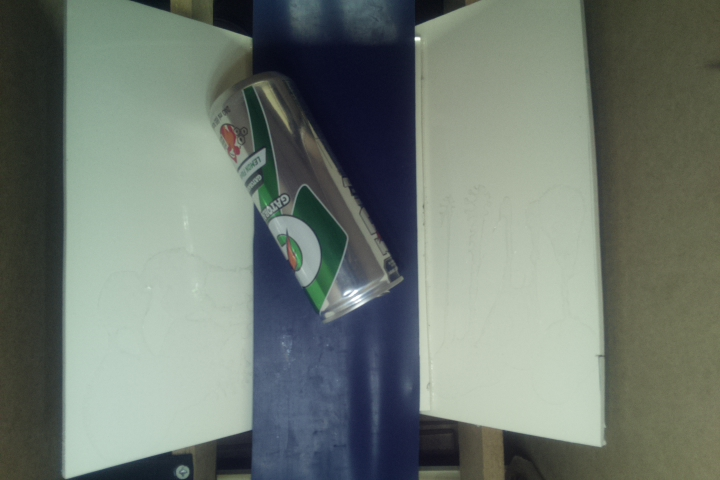can: (205, 70, 405, 329)
